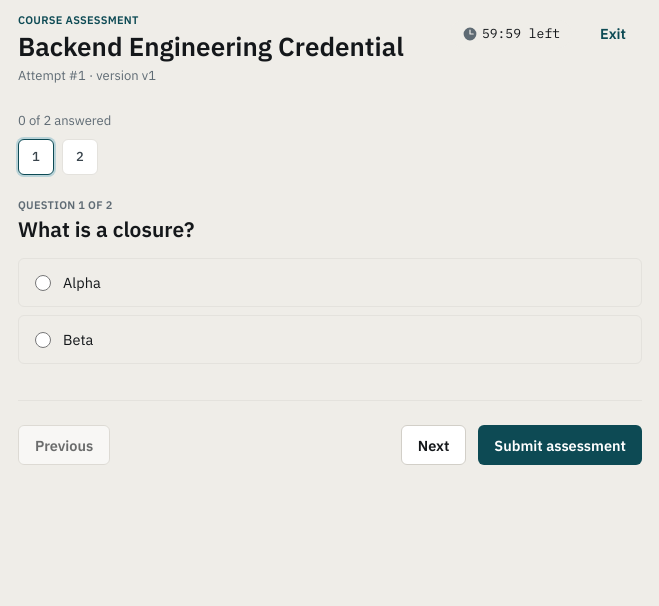
Test: AssessmentAttemptShell (runner) › autosave serialization (ordering / races) › stops the queue and marks expired if a save returns attempt_expired
Click the radio button labelled "Alpha".
click(43, 283)  # box [35,275,51,291]
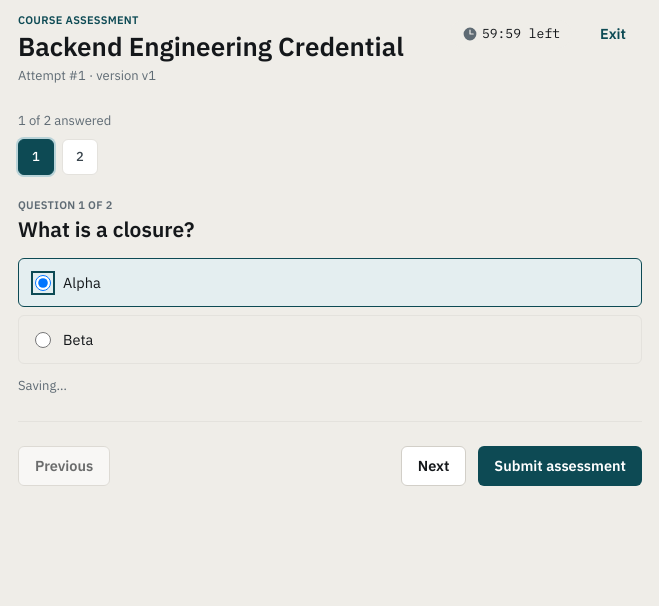
Click the radio button labelled "Beta".
click(43, 340)  # box [35,332,51,348]
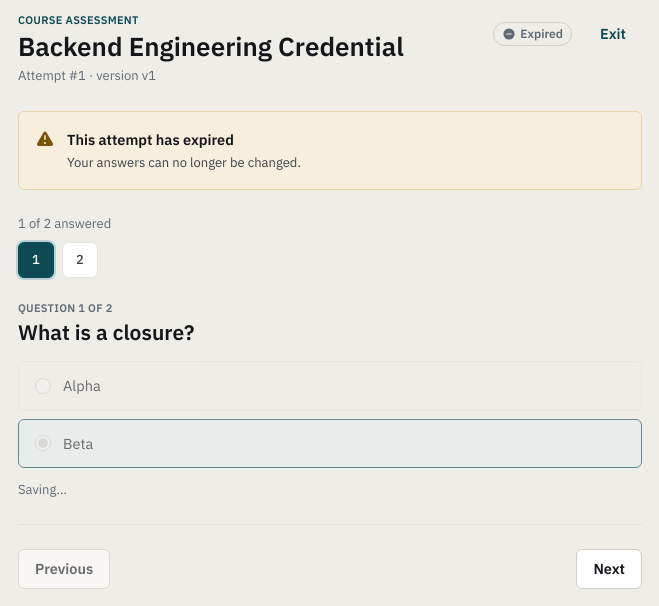
Expected: the text "This attempt has expired" is shown, [67,130,234,148]
